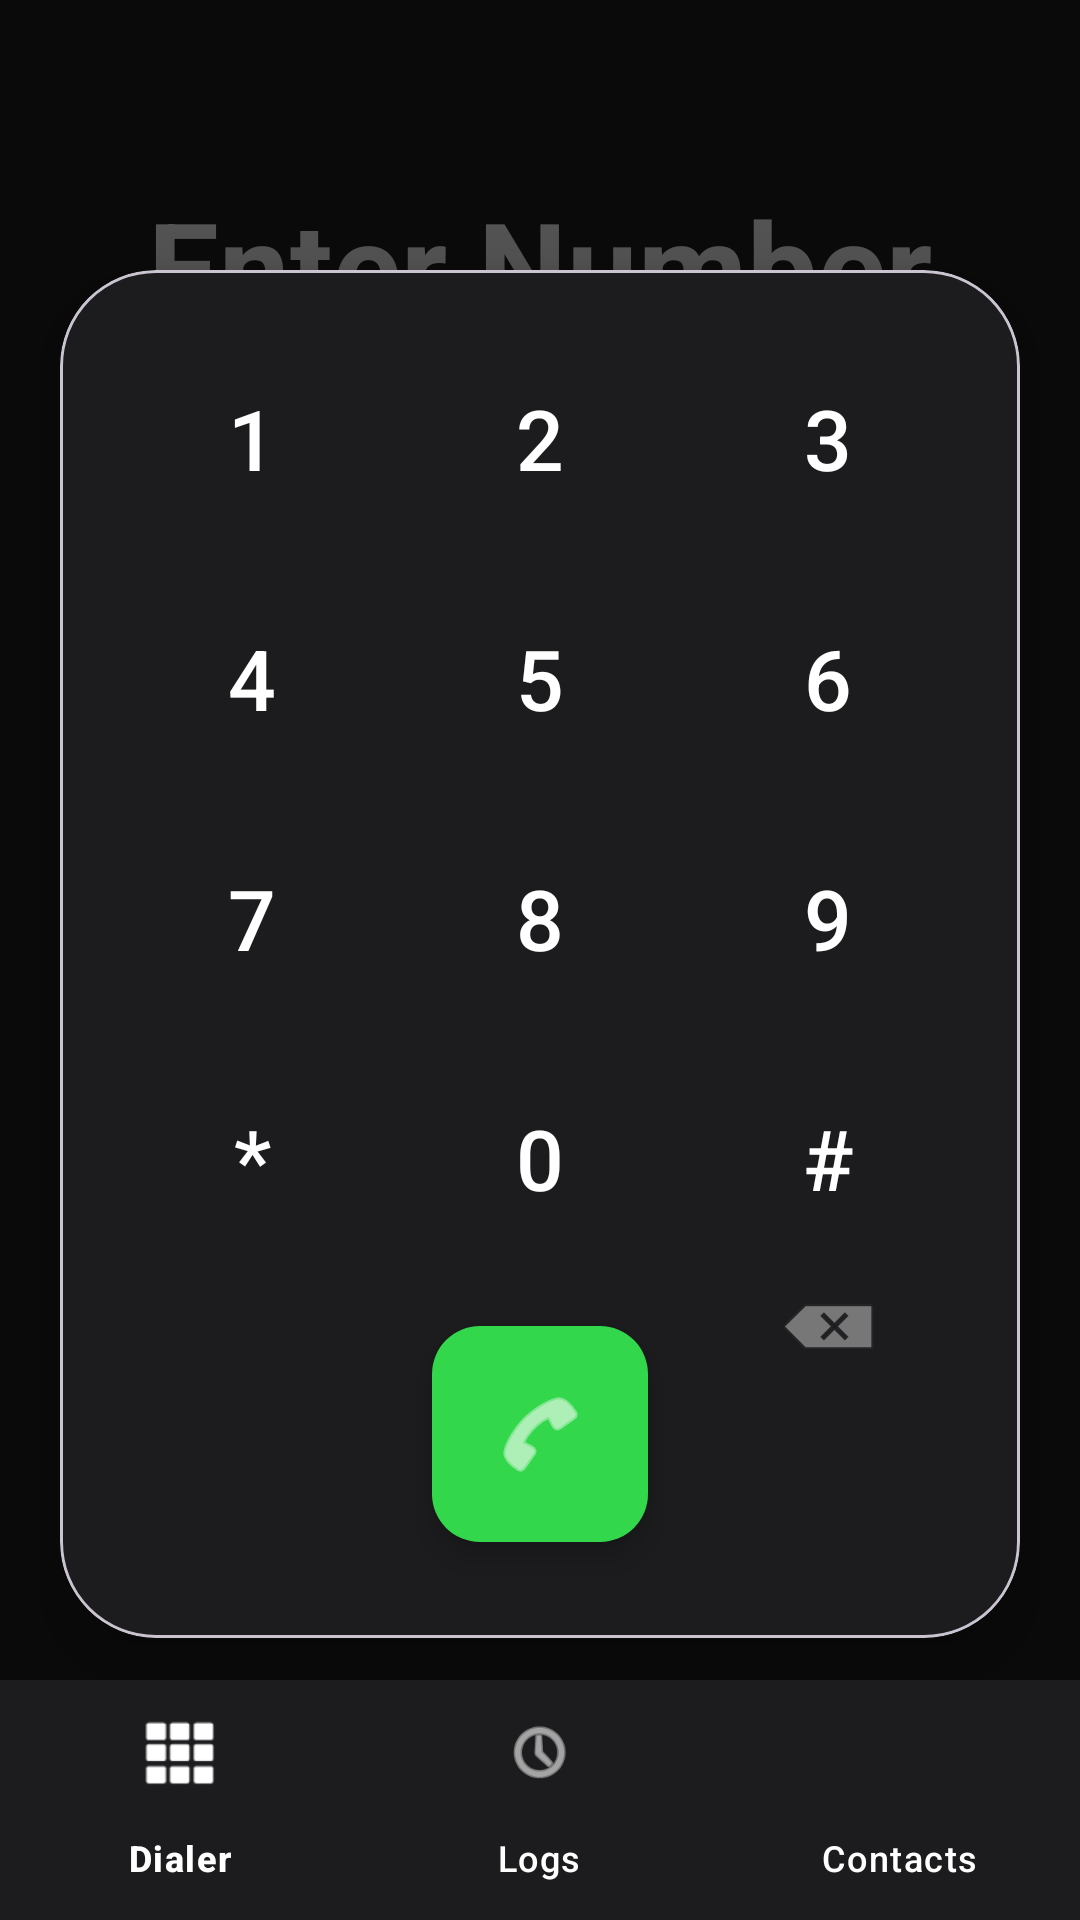

Locate icon controls on the screen. Image size 1080x1920, boxes as bbox=(x1, y1, x2, y2).
call: bbox=(432, 1326, 648, 1542)
delete: bbox=(785, 1306, 872, 1348)
